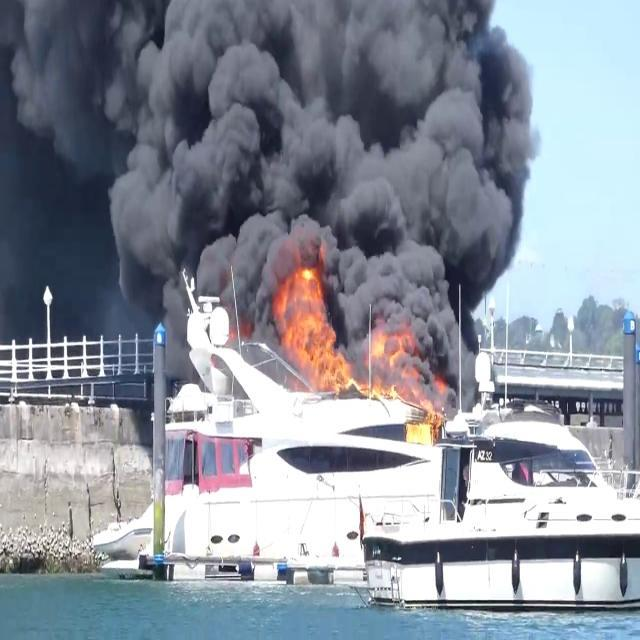Fire: (277, 267, 387, 403), (356, 332, 442, 443), (401, 402, 441, 446)
Smoke: (2, 0, 546, 345)
